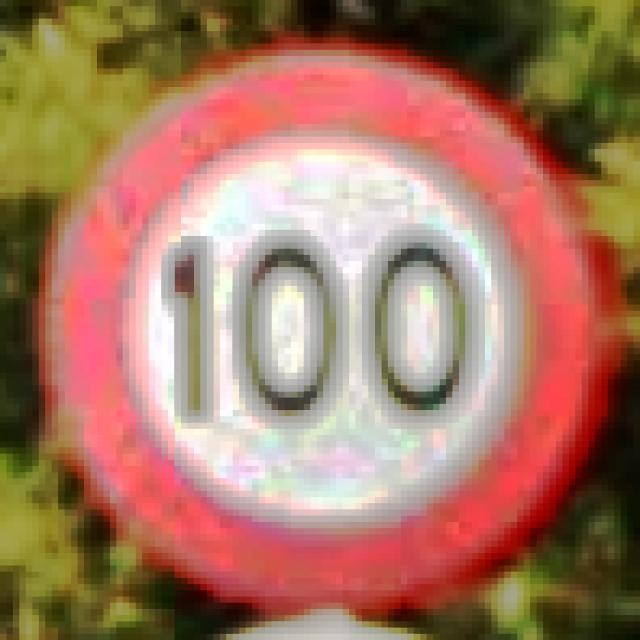max100: (32, 31, 621, 609)
